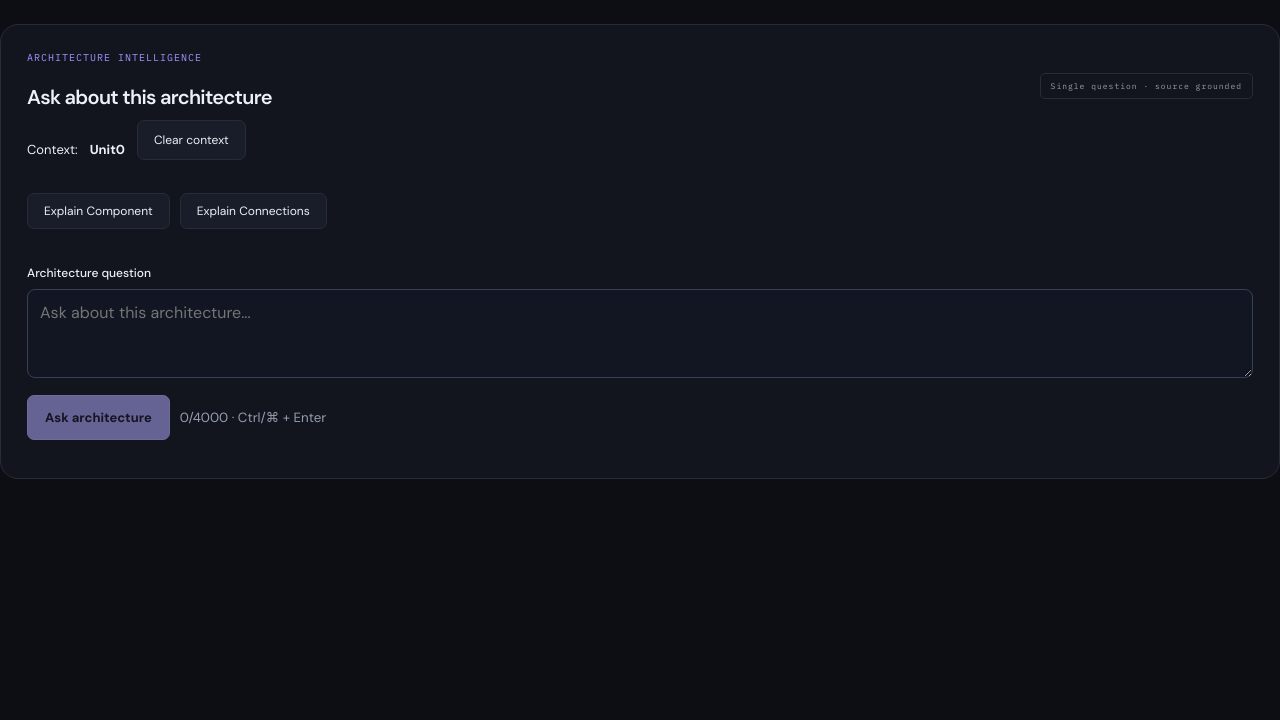
Test case: Explain Connections is accessible and sends the prescribed question
The width and height of the screenshot is (1280, 720).
Click the button "Explain Connections" at [253, 211], box [180, 193, 327, 229]
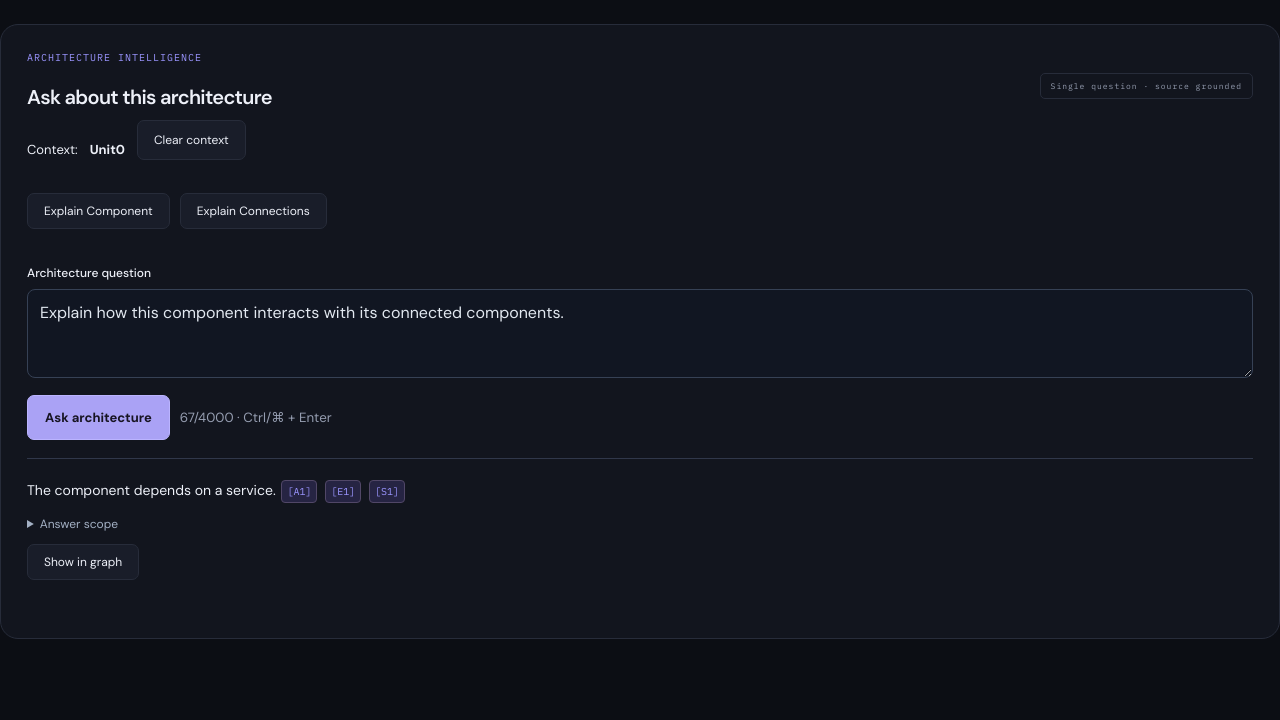
Check: the button named "Go to citation A1" is shown, box [281, 480, 317, 503]
